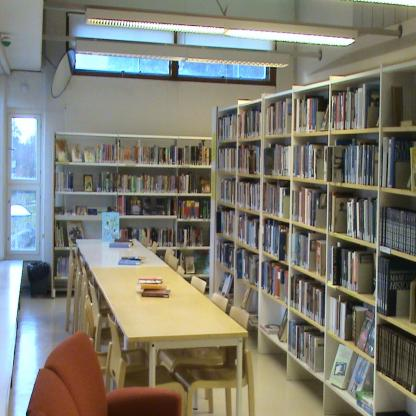book: (328, 340, 374, 416), (326, 292, 374, 359), (326, 239, 376, 303), (376, 256, 416, 330), (375, 325, 416, 396), (325, 189, 379, 242), (326, 136, 379, 186), (329, 80, 381, 129), (380, 133, 416, 193), (377, 204, 415, 259), (288, 319, 326, 373), (288, 270, 324, 326), (289, 225, 326, 278), (291, 182, 327, 230), (153, 249, 212, 277), (55, 137, 118, 163), (118, 142, 178, 165), (292, 93, 328, 131), (262, 216, 290, 263), (292, 143, 327, 180), (260, 257, 288, 303), (118, 173, 176, 194), (118, 226, 174, 247), (234, 244, 260, 288), (117, 197, 178, 215), (262, 180, 290, 219), (266, 98, 292, 136), (263, 140, 289, 176), (134, 274, 171, 299), (179, 138, 212, 166), (235, 178, 262, 212), (236, 209, 258, 250), (53, 219, 84, 247), (54, 205, 118, 218), (177, 197, 211, 221), (238, 140, 262, 174), (178, 171, 213, 194), (82, 172, 118, 192), (237, 108, 261, 138), (215, 239, 235, 272), (217, 268, 234, 306), (176, 224, 204, 247), (216, 206, 235, 239), (216, 112, 238, 140), (218, 174, 236, 204), (215, 146, 237, 170), (390, 85, 402, 129), (238, 284, 254, 314), (53, 171, 74, 191), (56, 256, 76, 277), (276, 308, 288, 343), (260, 322, 282, 335), (374, 409, 412, 416), (116, 257, 144, 265), (109, 240, 130, 250), (248, 310, 258, 327), (114, 237, 134, 244), (119, 255, 146, 260), (400, 119, 416, 127)
